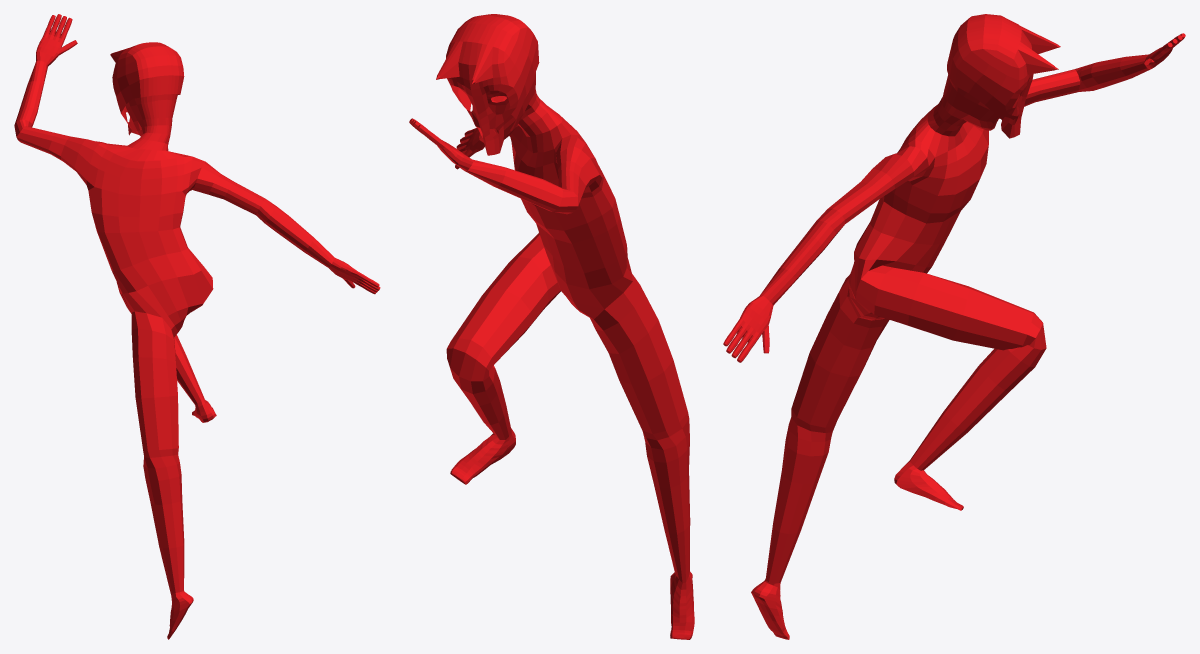
File: saltoadelanteE_000106.obj
The picture shows the model from 3 angles, left to right: view 1: azimuth 30°, elevation 25°; view 2: azimuth 150°, elevation 25°; view 3: azimuth 270°, elevation 25°; orthographic projection. The views are drawn at different scales.
Visible parts, largest first — view 1: Plane.002_Plane.001; view 2: Plane.002_Plane.001; view 3: Plane.002_Plane.001.
Part boxes in pixels (bbox=[...]): Plane.002_Plane.001: bbox=[14, 14, 380, 639]; Plane.002_Plane.001: bbox=[409, 14, 694, 639]; Plane.002_Plane.001: bbox=[723, 14, 1185, 639].
Size of the model in its own units: 3.29 by 7.15 by 4.56.
